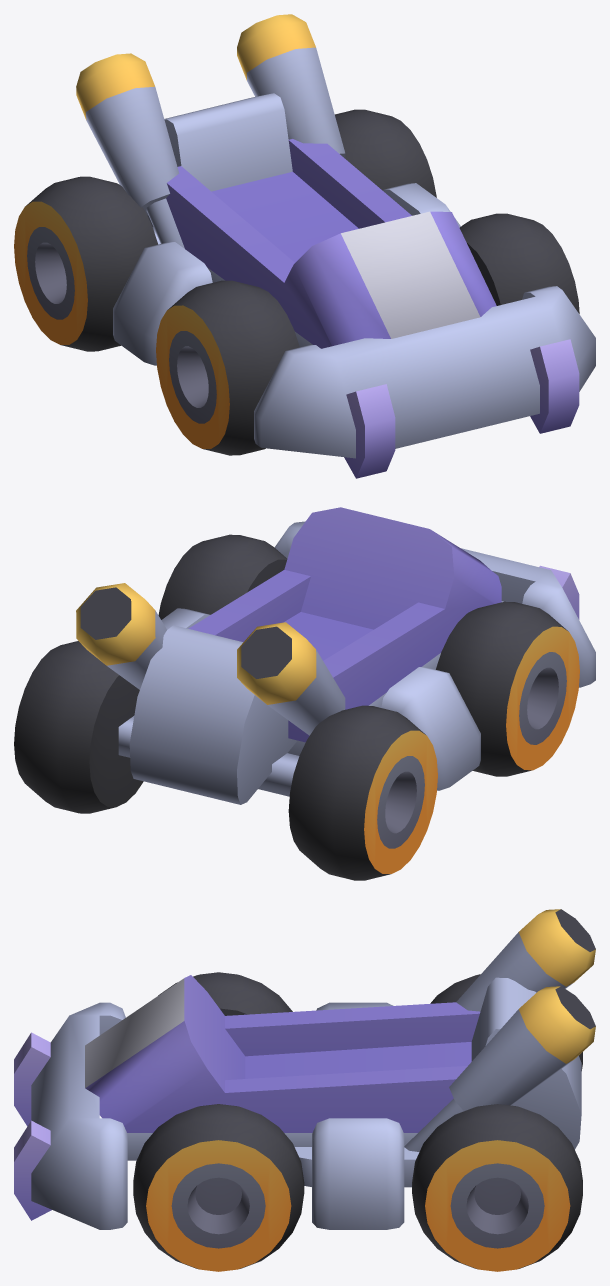
The model's file is kart.glb.
3 renders of one model, top to bottom at view 1: azimuth 30°, elevation 25°; view 2: azimuth 150°, elevation 25°; view 3: azimuth 270°, elevation 25°, orthographic.
Visible parts, largest first — view 1: kart-oobi, wheel-back-right, wheel-front-right, wheel-front-left, wheel-back-left; view 2: kart-oobi, wheel-back-right, wheel-front-right, wheel-back-left, wheel-front-left; view 3: kart-oobi, wheel-front-left, wheel-back-left, wheel-front-right, wheel-back-right.
Part boxes in pixels (<box>): kart-oobi: <box>76,14,595,478</box>; wheel-back-right: <box>14,176,157,351</box>; wheel-front-right: <box>156,280,299,455</box>; wheel-front-left: <box>459,213,579,313</box>; wheel-back-left: <box>335,109,436,197</box>; kart-oobi: <box>76,507,595,804</box>; wheel-back-right: <box>288,705,437,880</box>; wheel-front-right: <box>436,601,579,776</box>; wheel-back-left: <box>14,641,143,813</box>; wheel-front-left: <box>158,534,287,619</box>; kart-oobi: <box>14,909,595,1229</box>; wheel-front-left: <box>133,1104,304,1271</box>; wheel-back-left: <box>412,1104,582,1271</box>; wheel-front-right: <box>158,972,292,1015</box>; wheel-back-right: <box>430,974,582,1070</box>.
Bounding box in the file's own units: 0.9743 × 0.6732 × 1.43.
1 material, 1 textured.
